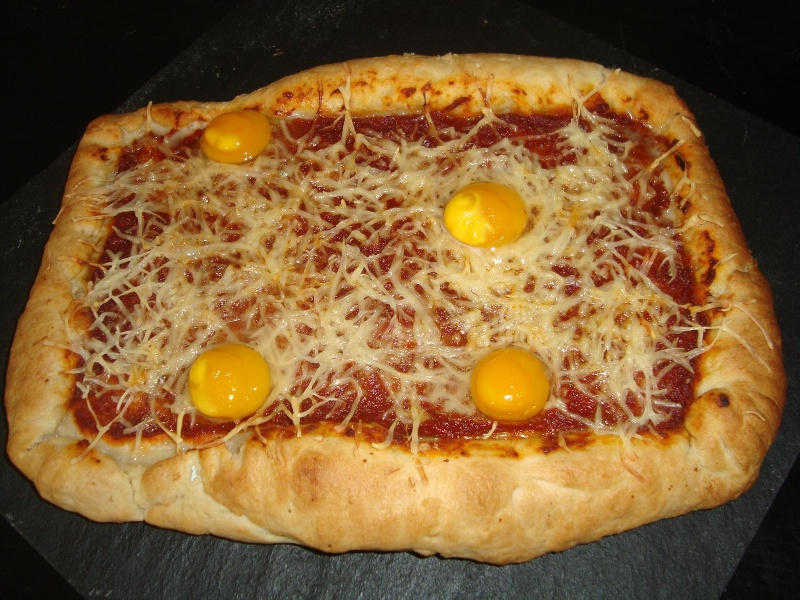oeuf: (463, 341, 574, 432), (182, 335, 280, 428), (445, 180, 537, 261), (197, 108, 279, 178)
